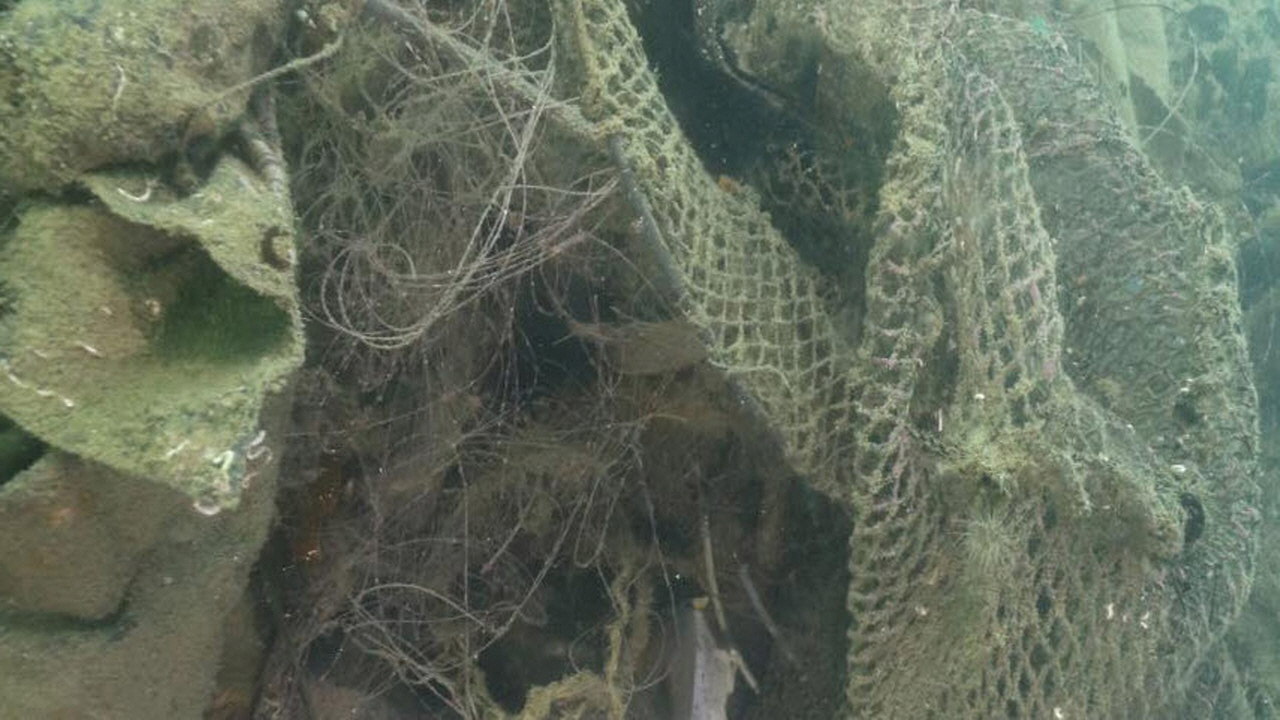fish net: (565, 0, 1265, 715)
